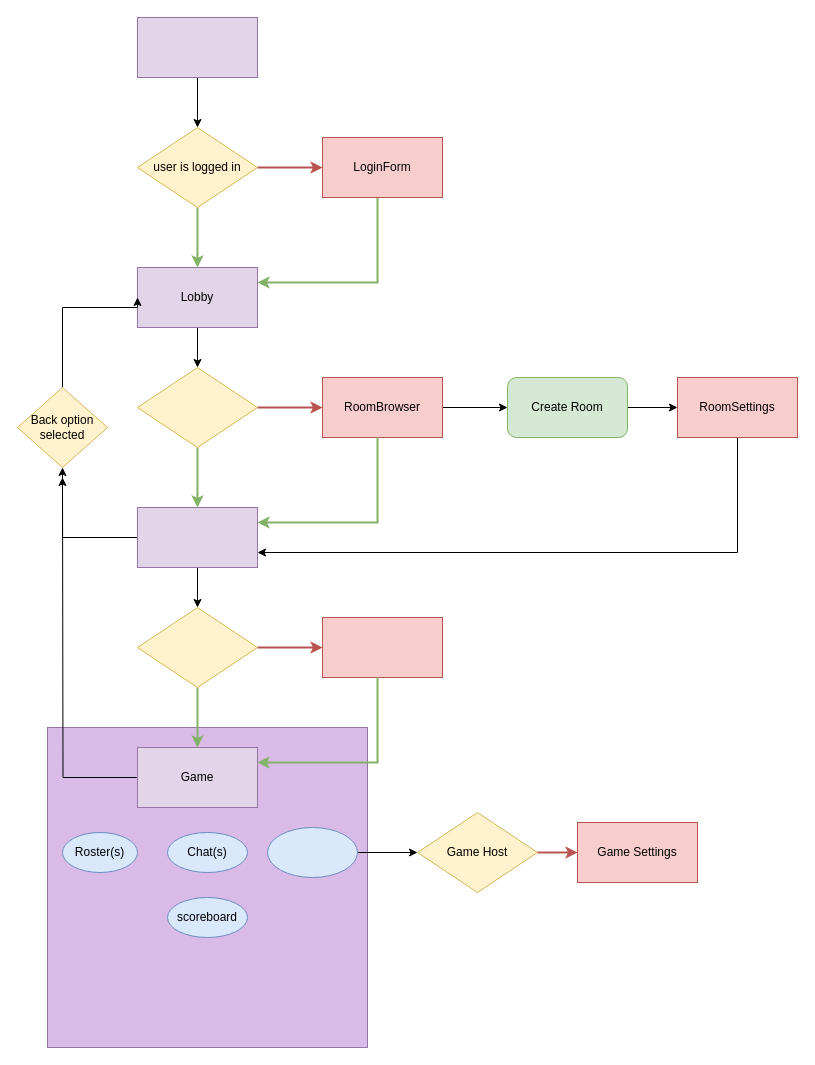
This 815x1065 diagram has some shape labels left out. Here are the shapes that lost their labels. From the top down, the box of each, then its label:
(136, 16, 258, 78): Login
(136, 366, 258, 448): Room selected
(136, 506, 258, 568): Room
(136, 606, 258, 688): Team Joined
(322, 616, 442, 678): JoinTeamForm
(266, 826, 358, 878): DrawBoard(s)
